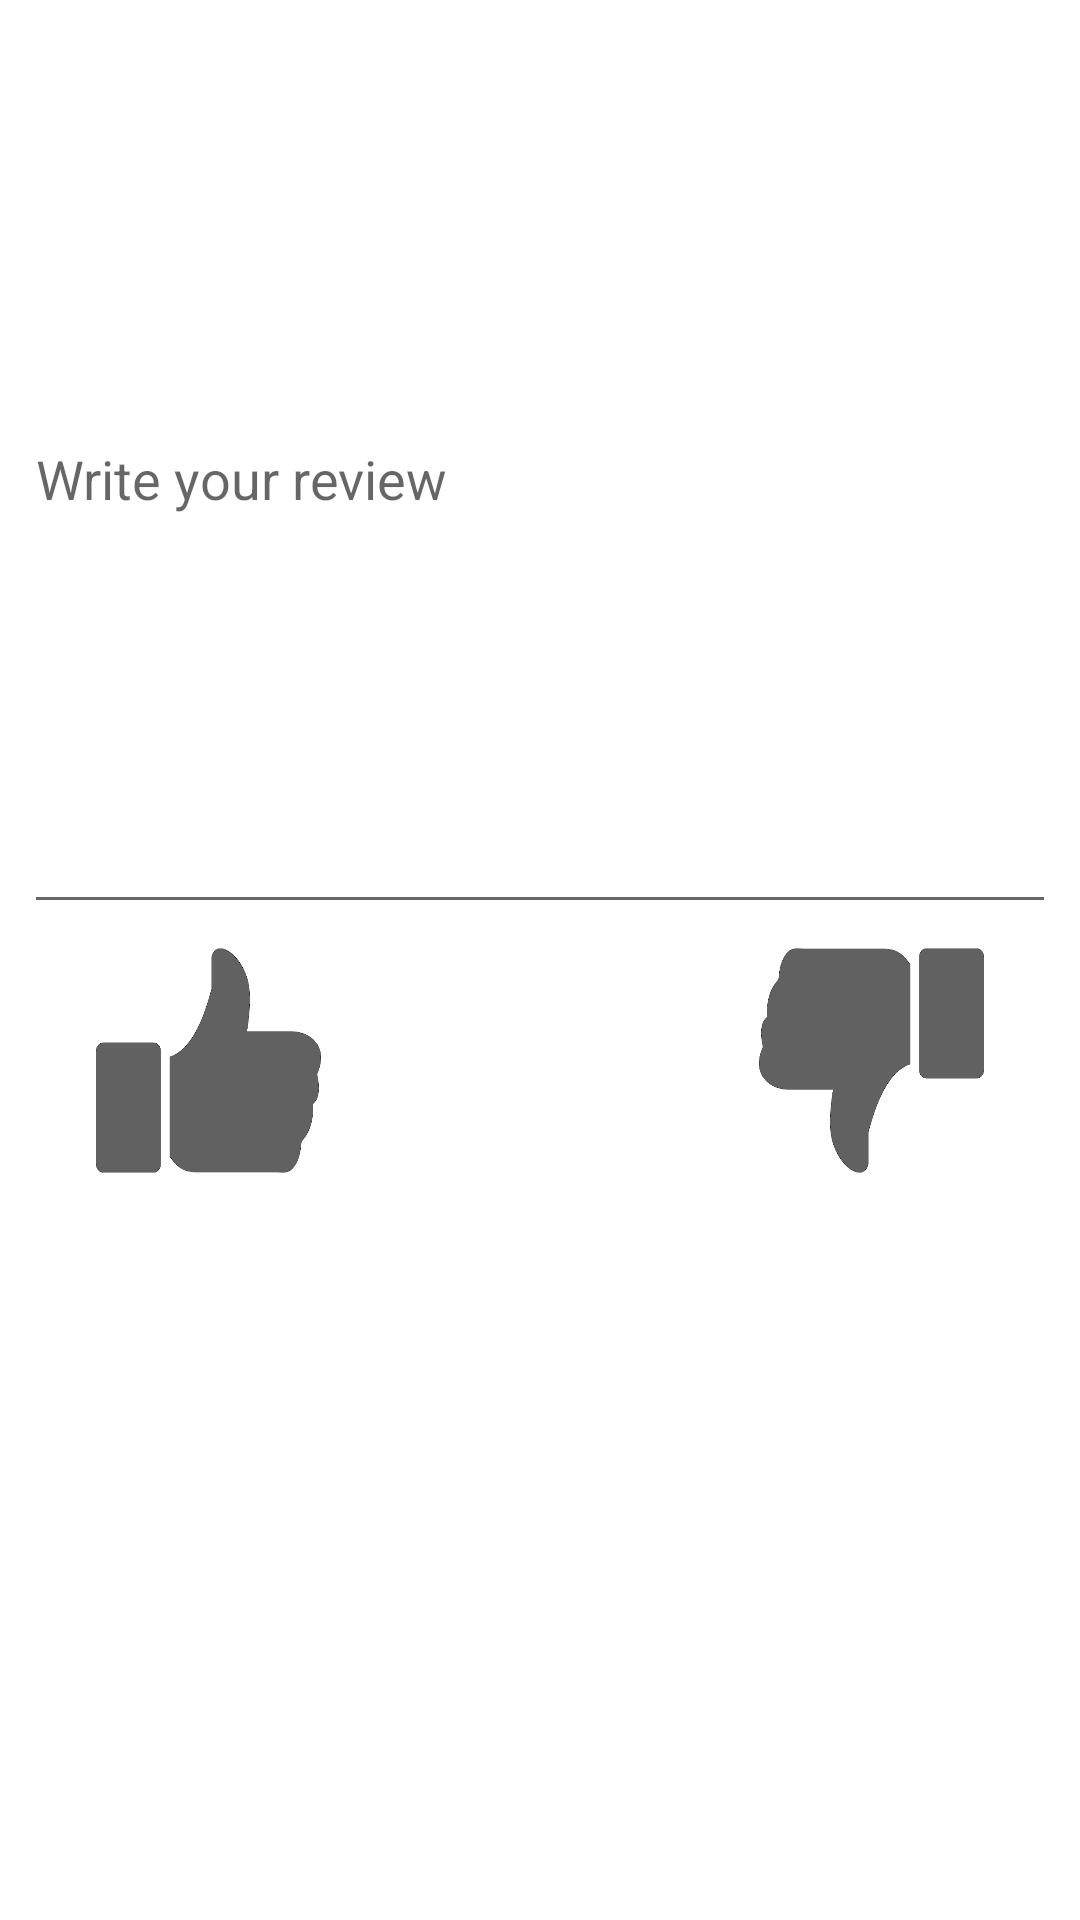

Icons on this 1080 × 1920 Android screen, each with its box as (x1, y1, x2, y2):
thumbs down: (759, 948, 984, 1173)
thumbs up: (96, 948, 321, 1173)
